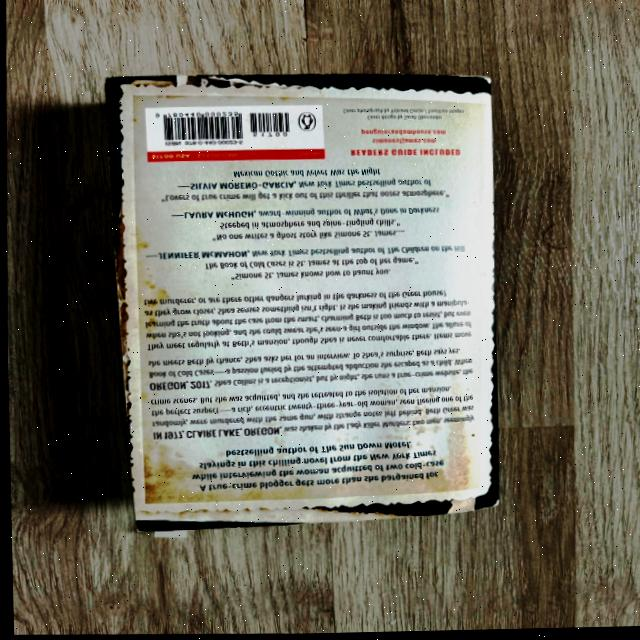Book: (106, 78, 497, 529)
